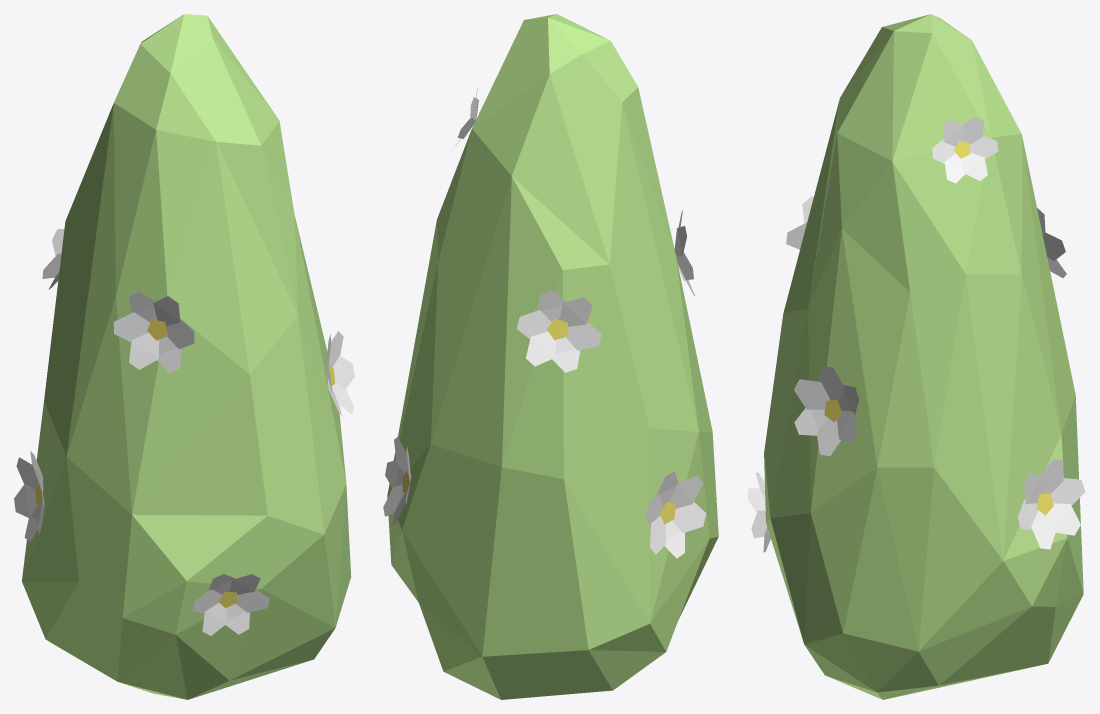
Rendered from FlowerBush_a_m_04.fbx.
3 views of the same model, side by side, from view 1: azimuth 30°, elevation 25°; view 2: azimuth 150°, elevation 25°; view 3: azimuth 270°, elevation 25° (orthographic).
Parts seen in each view (by area): view 1: FlowerBush_a_m_04; view 2: FlowerBush_a_m_04; view 3: FlowerBush_a_m_04.
Boxes of the visible parts, box(x1,y1,x2,y2) form: FlowerBush_a_m_04: box(14, 14, 354, 699); FlowerBush_a_m_04: box(383, 14, 718, 699); FlowerBush_a_m_04: box(747, 14, 1085, 699).
Size of the model in its own units: 121 by 270 by 124.
